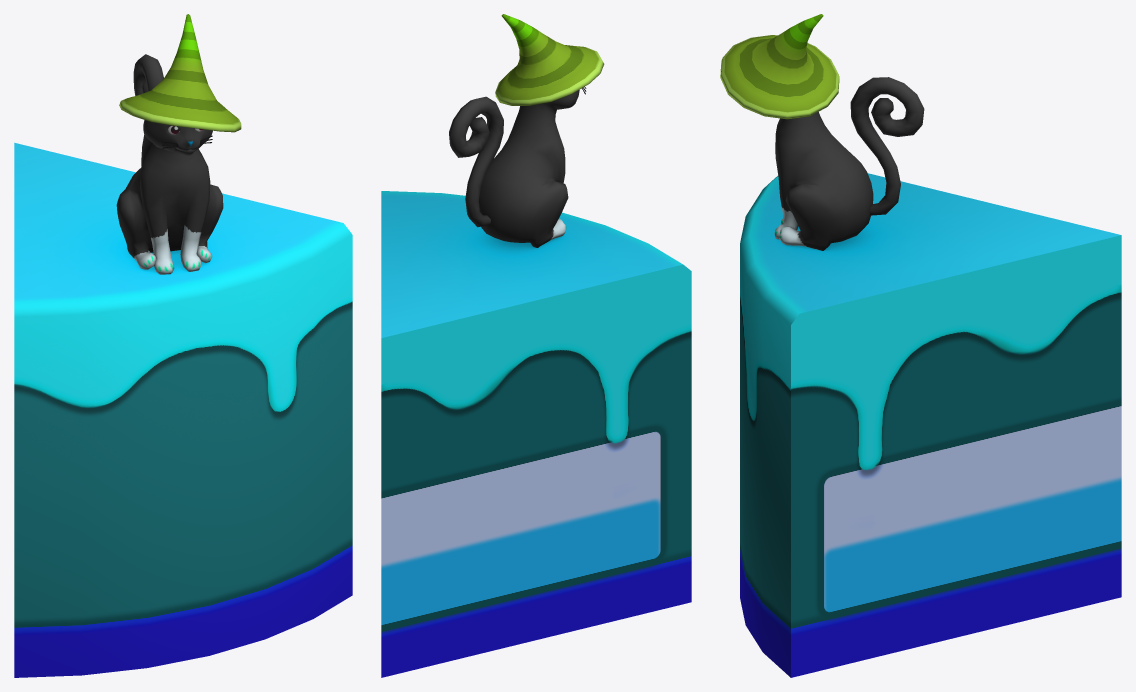
The model's file is cake_671.fbx.
3 views of the same model, side by side, from view 1: azimuth 30°, elevation 25°; view 2: azimuth 150°, elevation 25°; view 3: azimuth 270°, elevation 25° (orthographic). The views are drawn at different scales.
Parts seen in each view (by area): view 1: cake_67; view 2: cake_67; view 3: cake_67.
Part boxes in pixels (x1=…): cake_67: x1=14, y1=14, x2=352, y2=677; cake_67: x1=381, y1=14, x2=691, y2=677; cake_67: x1=720, y1=14, x2=1121, y2=677.
Bounding box in the file's own units: 5.09 × 8.72 × 5.35.
